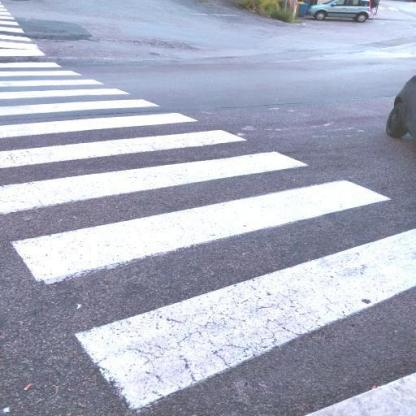crosswalk: (1, 146, 416, 284)
